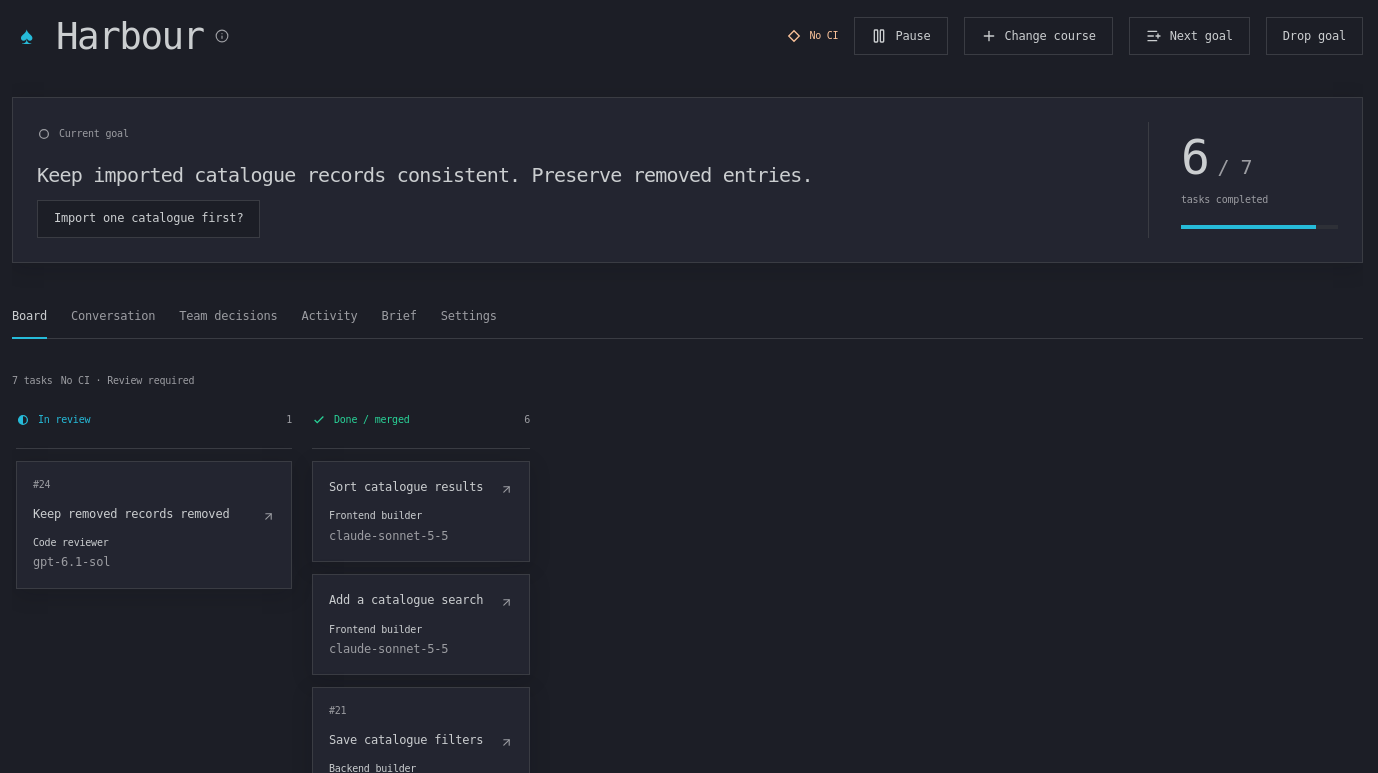
goals › Project board uses task state and pauses through the owner API
Step 1. Click the button "Pause" → (901, 36), box [854,17,948,55]
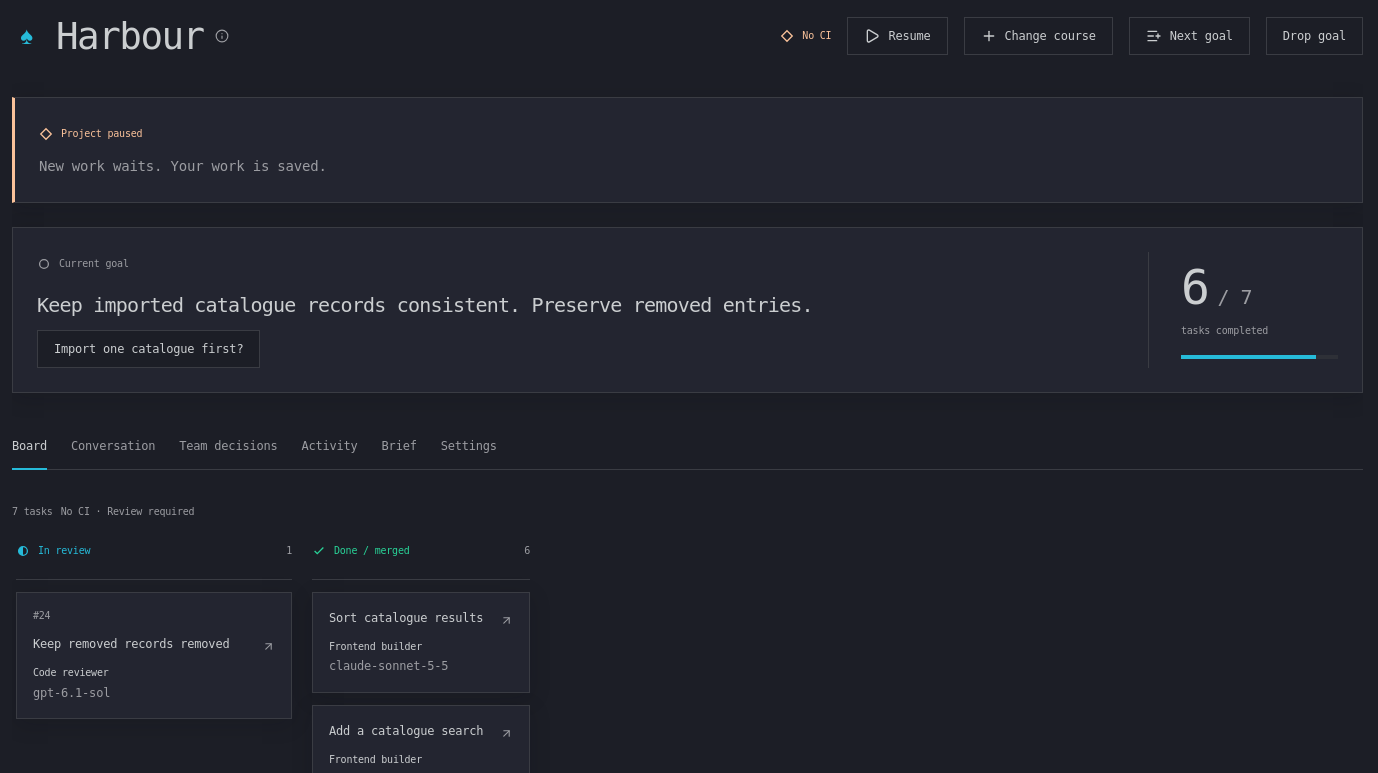
expect the text "Project paused" is shown: met, box [61,127,142,141]
